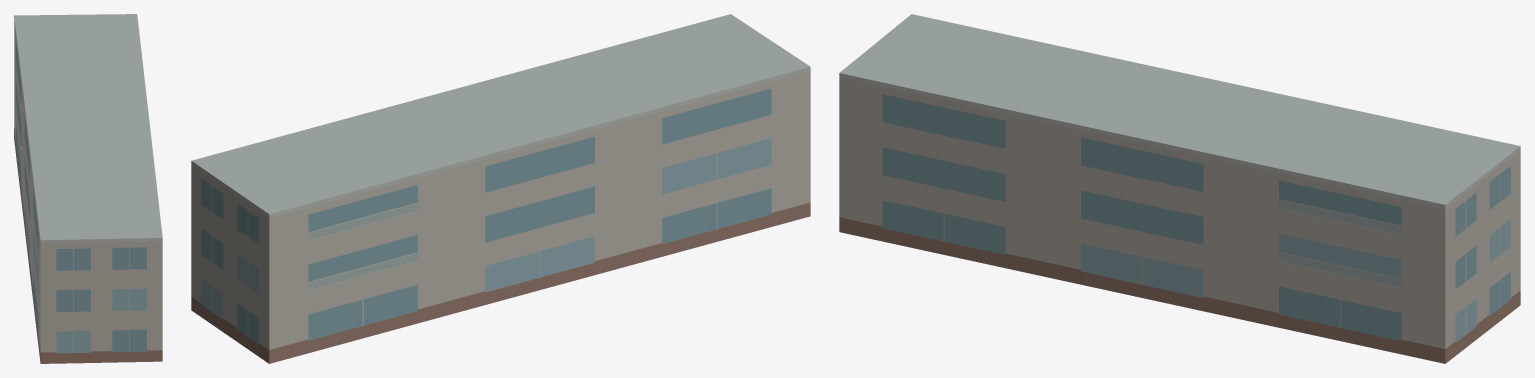
File: survey-upis-32707059.glb
3 renders of one model, left to right at view 1: azimuth 30°, elevation 25°; view 2: azimuth 150°, elevation 25°; view 3: azimuth 270°, elevation 25°, orthographic. The views are drawn at different scales.
Visible parts, largest first — view 1: survey-upis-32707059.tmp; view 2: survey-upis-32707059.tmp; view 3: survey-upis-32707059.tmp.
Part boxes in pixels (x1=…): survey-upis-32707059.tmp: x1=14, y1=14, x2=162, y2=363; survey-upis-32707059.tmp: x1=191, y1=14, x2=810, y2=363; survey-upis-32707059.tmp: x1=839, y1=14, x2=1520, y2=363.
Size of the model in its own units: 23.56 by 9.15 by 35.54.
